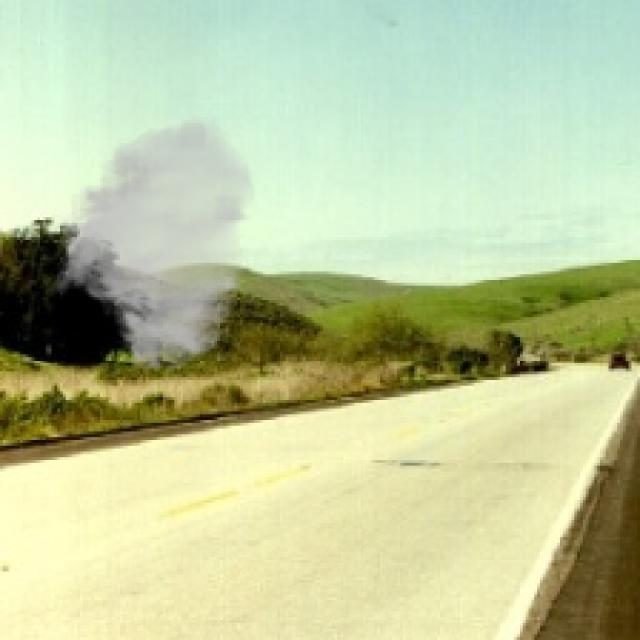Smoke: (51, 114, 258, 374)
